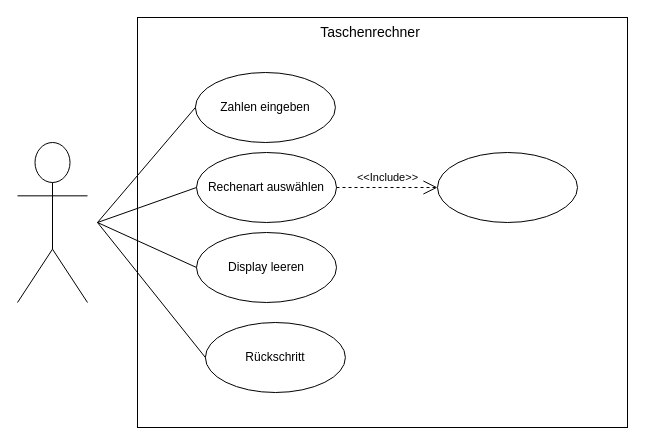
Image size: 645x445. Some labels were removed from this diagram. The centre of each missing label's shape, as x and y in pixels:
"Actor" goes at [52,222].
"Berechnung und Ergebnisausgabe" goes at [507,187].
